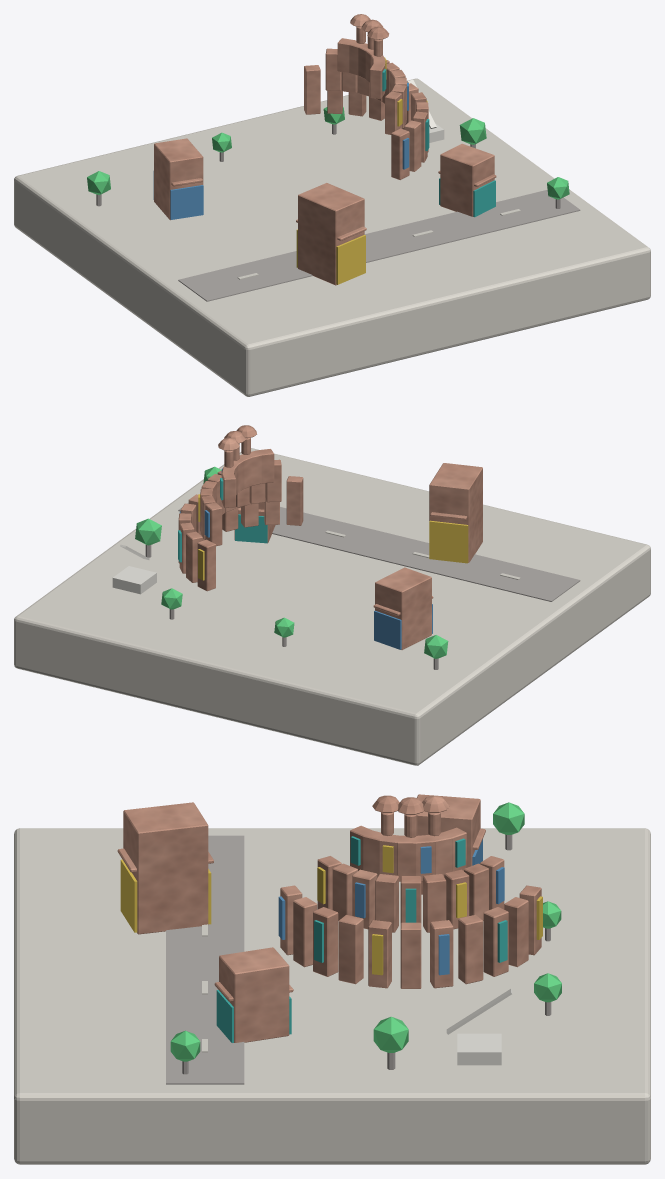
Rendered from jaipur_iso.glb.
3 views of the same model, one above another, from view 1: azimuth 30°, elevation 25°; view 2: azimuth 150°, elevation 25°; view 3: azimuth 270°, elevation 25° (orthographic). The views are drawn at different scales.
Visible parts, largest first — view 1: Slab, IsoArchitecture, Road, TrimAccents, TreeTop_5.2_1.2; view 2: Slab, IsoArchitecture, Road, TrimAccents, JantarBase, TreeTop_5.2_1.2; view 3: Slab, IsoArchitecture, Road, TrimAccents, JantarBase, TreeTop_5.2_1.2, TreeTop_-5.4_3.6, TreeTop_5.5_-3.0, TreeTop_2.6_4.4.
Boxes of the visible parts, left/top/right/bottom form: Slab: left=14, top=78, right=650, bottom=396; IsoArchitecture: left=154, top=14, right=496, bottom=285; Road: left=178, top=189, right=580, bottom=301; TrimAccents: left=153, top=57, right=495, bottom=284; TreeTop_5.2_1.2: left=459, top=118, right=486, bottom=144; Slab: left=14, top=448, right=650, bottom=765; IsoArchitecture: left=178, top=425, right=482, bottom=649; Road: left=178, top=502, right=580, bottom=601; TrimAccents: left=178, top=468, right=468, bottom=649; JantarBase: left=112, top=566, right=156, bottom=594; TreeTop_5.2_1.2: left=135, top=518, right=161, bottom=545; Slab: left=14, top=828, right=650, bottom=1164; IsoArchitecture: left=117, top=794, right=541, bottom=1042; Road: left=166, top=835, right=244, bottom=1084; TrimAccents: left=120, top=836, right=542, bottom=1042; JantarBase: left=457, top=1033, right=501, bottom=1065; TreeTop_5.2_1.2: left=373, top=1016, right=408, bottom=1052; TreeTop_-5.4_3.6: left=493, top=802, right=524, bottom=834; TreeTop_5.5_-3.0: left=170, top=1030, right=200, bottom=1061; TreeTop_2.6_4.4: left=534, top=973, right=561, bottom=1002.
Size of the model in its own units: 13 by 6.29 by 13.
Materials: 8 (1 with a texture image).
